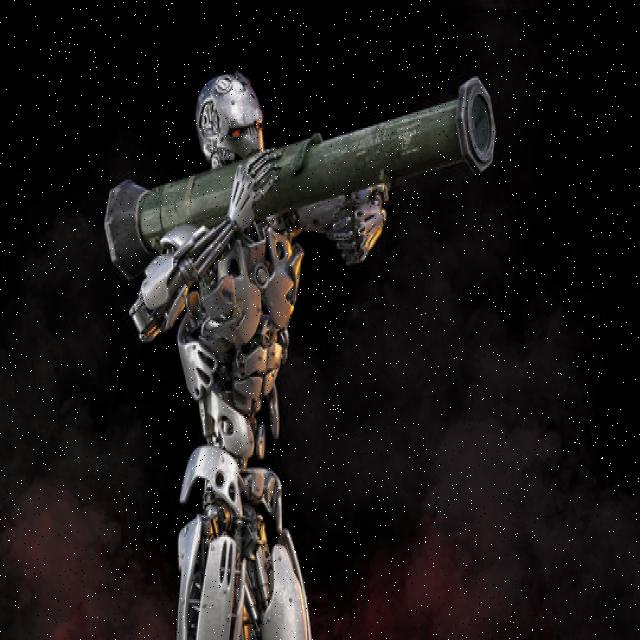bazooka: (105, 75, 504, 286)
